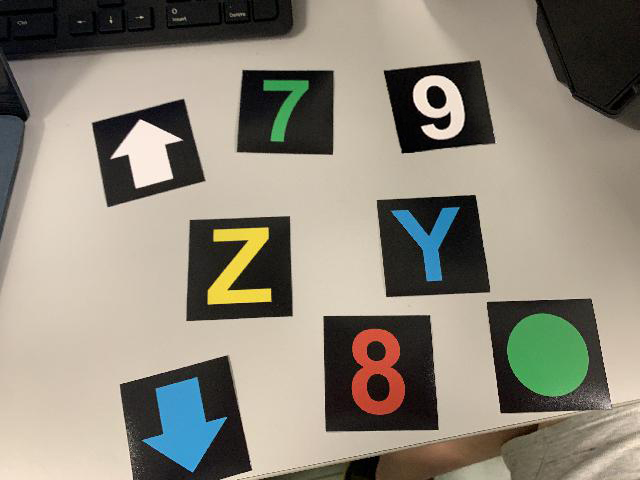alphabet_y: (376, 194, 491, 298)
alphabet_z: (185, 214, 296, 322)
down_arrow: (118, 354, 256, 479)
eight: (323, 314, 440, 432)
go: (486, 298, 612, 415)
nine: (385, 61, 498, 156)
seven: (235, 66, 335, 157)
up_arrow: (90, 97, 208, 211)
